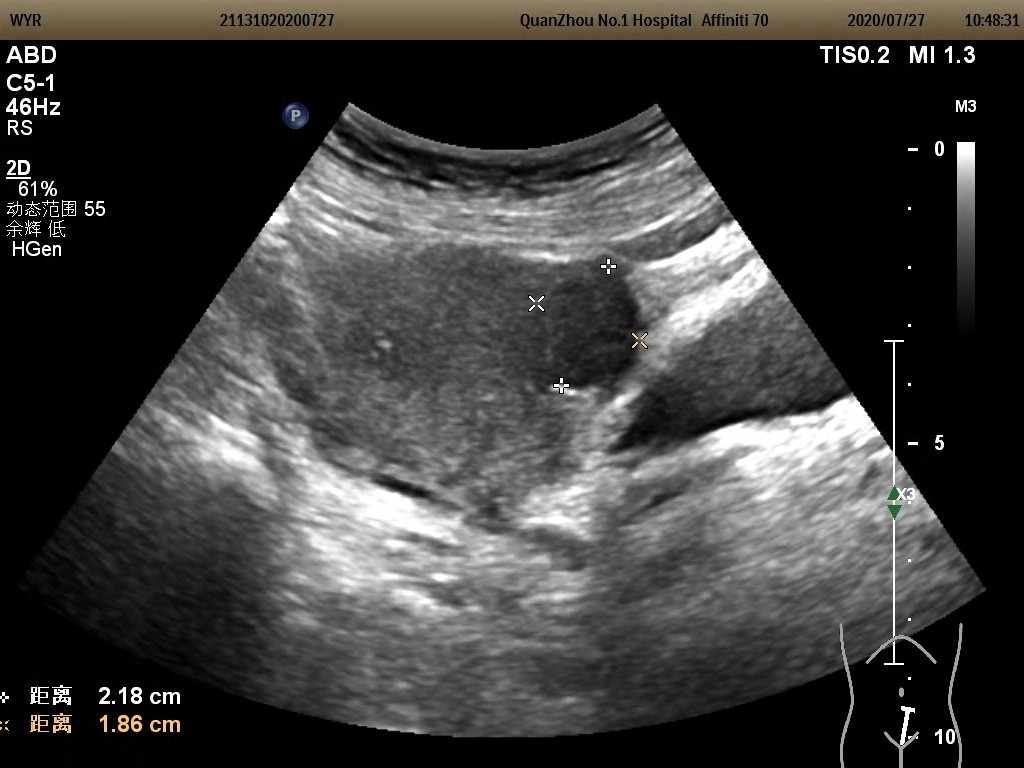肌瘤: (536, 267, 641, 387)
